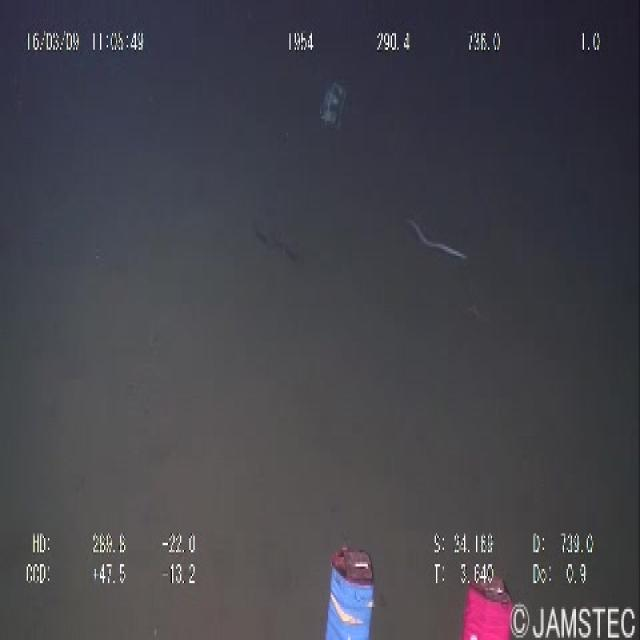plastic: (311, 66, 356, 144)
